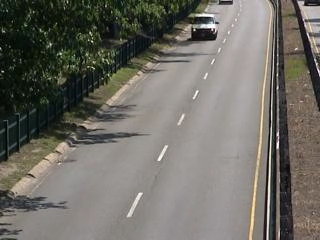truck: (188, 13, 221, 42)
